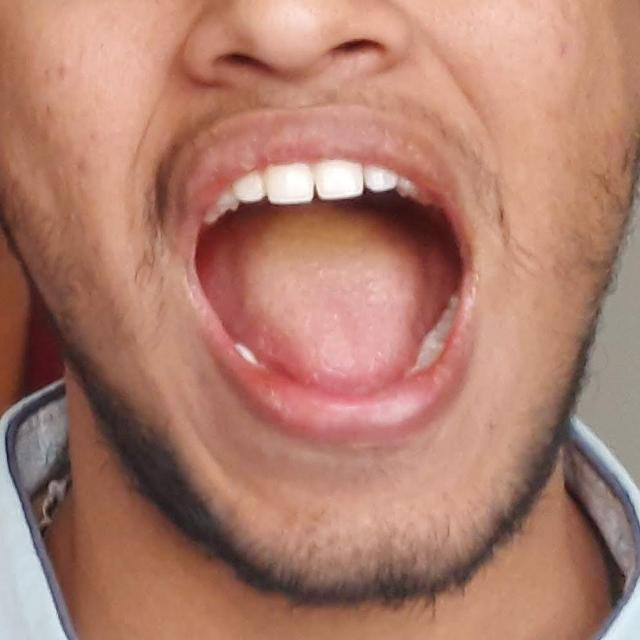normal_tongue: (143, 152, 536, 463)
